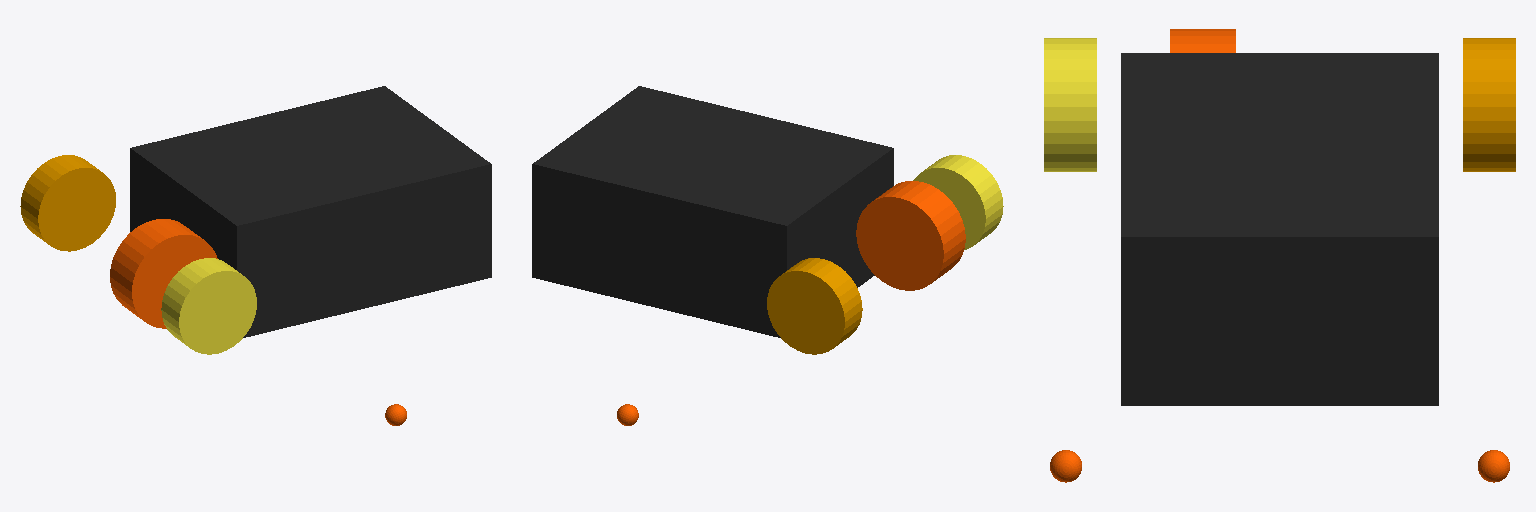
The robot description file, URDF, robot "centuar":
<?xml version="1.0"?>
<robot name="centuar">
  <material name="black">
    <color rgba="0.0 0.0 0.0 0.8"/>
  </material>
  <material name="blue">
    <color rgba="0.0 0.0 0.8 0.8"/>
  </material>
  <material name="green">
    <color rgba="0.0 0.8 0.0 0.2"/>
  </material>
  <material name="grey">
    <color rgba="0.2 0.2 0.2 0.4"/>
  </material>
  <material name="silver">
    <color rgba="0.913725490196 0.913725490196 0.847058823529 0.6"/>
  </material>
  <material name="orange">
    <color rgba="1.0 0.423529411765 0.0392156862745 0.5"/>
  </material>
  <material name="brown">
    <color rgba="0.870588235294 0.811764705882 0.764705882353 0.7"/>
  </material>
  <material name="red">
    <color rgba="0.8 0.0 0.0 1.0"/>
  </material>
  <material name="white">
    <color rgba="1.0 1.0 1.0 1.0"/>
  </material>


  <link name="floating_base">
    <visual>
      <origin rpy="0 0 0" xyz="0 0 0"/>
        <geometry>
          <box size="0.001 0.001 0.001"/>
        </geometry>
    </visual>    
  </link>

  <joint name="floating_base_to_trunk" type="fixed">
    <origin rpy="0 0 0" xyz="0 0 0"/>
    <parent link="floating_base"/>
    <child link="trunk"/>
  </joint>

  <link name="trunk">
    <visual>
      <origin rpy="0 0 0" xyz="0 0 0"/>
      <geometry>
        <box size="0.267 0.194 0.114"/>
        <!-- <mesh filename="[local-path]/Data/Code/drake/workspace/centuar_sim/a1_description/meshes/trunk.dae" scale="1 1 1"/> -->
        <mesh filename="[local-path]/Data/Code/drake/workspace/centuar_sim/a1_description/meshes/trunk.obj" scale="1 1 1"/>
      </geometry>
      <material name="grey"/>
    </visual>
    <collision>
      <origin rpy="0 0 0" xyz="0 0 0"/>
      <geometry>
        <box size="0.267 0.194 0.114"/>
      </geometry>
    </collision>
    <inertial>
      <origin rpy="0 0 0" xyz="0.0 0.0041 -0.0005"/>
      <mass value="6.0"/>
      <inertia ixx="0.0158533" ixy="-3.66e-05" ixz="-6.11e-05" iyy="0.0377999" iyz="-2.75e-05" izz="0.0456542"/>
    </inertial>
  </link>

  <joint name="RR_hip_joint" type="revolute">
    <origin rpy="0 0 0" xyz="-0.1805 -0.047 0"/>
    <parent link="trunk"/>
    <child link="RR_hip"/>
    <axis xyz="1 0 0"/>
    <dynamics damping="0" friction="0"/>
    <limit effort="33.5" lower="-0.8028514559173915" upper="0.8028514559173915" velocity="21"/>
  </joint>
  <link name="RR_hip">
    <visual>
      <!-- <origin rpy="3.141592653589793 3.141592653589793 0" xyz="0 0 0"/> -->
      <origin rpy="1.5707963267948966 0 0" xyz="0 0 0"/>
      <geometry>
        <cylinder length="0.04" radius="0.046"/>
        <!-- <mesh filename="[local-path]/Data/Code/drake/workspace/centuar_sim/a1_description/meshes/hip.dae" scale="1 1 1"/> -->
        <mesh filename="[local-path]/Data/Code/drake/workspace/centuar_sim/a1_description/meshes/hip.obj" scale="1 1 1"/>
      </geometry>
      <material name="orange"/>
    </visual>
    <collision>
      <origin rpy="1.5707963267948966 0 0" xyz="0 0 0"/>
      <geometry>
        <cylinder length="0.04" radius="0.046"/>
      </geometry>
    </collision>
    <inertial>
      <origin rpy="0 0 0" xyz="0.003311 -0.000635 3.1e-05"/>
      <mass value="0.696"/>
      <inertia ixx="0.000469246" ixy="-9.409e-06" ixz="3.42e-07" iyy="0.00080749" iyz="4.66e-07" izz="0.000552929"/>
    </inertial>
  </link>
  <joint name="RR_hip_fixed" type="fixed">
    <origin rpy="0 0 0" xyz="0 -0.081 0"/>
    <parent link="RR_hip"/>
    <child link="RR_thigh_shoulder"/>
  </joint>
  <!-- this link is only for collision -->
  <link name="RR_thigh_shoulder">
    <visual>
      <origin rpy="1.5707963267948966 0 0" xyz="0 0 0"/>
      <geometry>
        <cylinder length="0.032" radius="0.041"/>
      </geometry>
    </visual>
    <collision>
      <origin rpy="1.5707963267948966 0 0" xyz="0 0 0"/>
      <geometry>
        <cylinder length="0.032" radius="0.041"/>
      </geometry>
    </collision>
  </link>

  <joint name="RR_thigh_joint" type="revolute">
    <origin rpy="0 0 0" xyz="0 -0.0838 0"/>
    <parent link="RR_hip"/>
    <child link="RR_thigh"/>
    <axis xyz="0 1 0"/>
    <dynamics damping="0" friction="0"/>
    <limit effort="33.5" lower="-1.0471975511965976" upper="4.1887902047863905" velocity="21"/>
  </joint>
  <link name="RR_thigh">
    <visual>
      <origin rpy="0 0 0" xyz="0 0 0"/>
      <geometry>
        <mesh filename="[local-path]/Data/Code/drake/workspace/centuar_sim/a1_description/meshes/thigh_mirror.obj" scale="1 1 1"/>
      </geometry>
      <!-- <origin rpy="0 1.5707963267948966 0" xyz="0 0 -0.1"/>
      <geometry>
        <box size="0.2 0.0245 0.034"/>
      </geometry> -->
      <material name="orange"/>
    </visual>
    <collision>
      <origin rpy="0 1.5707963267948966 0" xyz="0 0 -0.1"/>
      <geometry>
        <box size="0.2 0.0245 0.034"/>
      </geometry>
    </collision>
    <inertial>
      <origin rpy="0 0 0" xyz="-0.003237 0.022327 -0.027326"/>
      <mass value="1.013"/>
      <inertia ixx="0.005529065" ixy="-4.825e-06" ixz="0.000343869" iyy="0.005139339" iyz="-2.2448e-05" izz="0.001367788"/>
    </inertial>
  </link>  

  <joint name="RR_calf_joint" type="revolute">
    <origin rpy="0 0 0" xyz="0 0 -0.2"/>
    <parent link="RR_thigh"/>
    <child link="RR_calf"/>
    <axis xyz="0 1 0"/>
    <dynamics damping="0" friction="0"/>
    <limit effort="33.5" lower="-2.6965336943312392" upper="-0.9162978572970231" velocity="21"/>
  </joint>
  <link name="RR_calf">
    <visual>
      <origin rpy="0 0 0" xyz="0 0 0"/>
      <geometry>
        <mesh filename="[local-path]/Data/Code/drake/workspace/centuar_sim/a1_description/meshes/calf.obj" scale="1 1 1"/>
      </geometry>
      <!-- <origin rpy="0 1.5707963267948966 0" xyz="0 0 -0.1"/>
      <geometry>
        <box size="0.2 0.016 0.016"/>
      </geometry> -->
      <material name="orange"/>
    </visual>
    <collision>
      <origin rpy="0 1.5707963267948966 0" xyz="0 0 -0.1"/>
      <geometry>
        <box size="0.2 0.016 0.016"/>
      </geometry>
    </collision>
    <inertial>
      <origin rpy="0 0 0" xyz="0.006435 0.0 -0.107388"/>
      <mass value="0.166"/>
      <inertia ixx="0.002997972" ixy="0.0" ixz="-0.000141163" iyy="0.003014022" iyz="0.0" izz="3.2426e-05"/>
    </inertial>   
  </link>

  <joint name="RR_foot_fixed" type="fixed">
    <origin rpy="0 0 0" xyz="0 0 -0.2"/>
    <parent link="RR_calf"/>
    <child link="RR_foot"/>
  </joint>
  <link name="RR_foot">
    <visual>
      <origin rpy="0 0 0" xyz="0 0 0"/>
      <geometry>
        <sphere radius="0.01"/>
      </geometry>
      <material name="orange"/>
    </visual>
    <collision>
      <origin rpy="0 0 0" xyz="0 0 0"/>
      <geometry>
        <sphere radius="0.02"/>
      </geometry>
    </collision>
    <inertial>
      <mass value="0.06"/>
      <inertia ixx="9.600000000000001e-06" ixy="0.0" ixz="0.0" iyy="9.600000000000001e-06" iyz="0.0" izz="9.600000000000001e-06"/>
    </inertial>
  </link>

  <joint name="RL_hip_joint" type="revolute">
    <origin rpy="0 0 0" xyz="-0.1805 0.047 0"/>
    <parent link="trunk"/>
    <child link="RL_hip"/>
    <axis xyz="1 0 0"/>
    <dynamics damping="0" friction="0"/>
    <limit effort="33.5" lower="-0.8028514559173915" upper="0.8028514559173915" velocity="21"/>
  </joint>
  <link name="RL_hip">
    <visual>
      <origin rpy="0 3.141592653589793 0" xyz="0 0 0"/>
      <geometry>
        <mesh filename="[local-path]/Data/Code/drake/workspace/centuar_sim/a1_description/meshes/hip.obj" scale="1 1 1"/>
      </geometry>
      <!-- <origin rpy="1.5707963267948966 0 0" xyz="0 0 0"/>
      <geometry>
        <cylinder length="0.04" radius="0.046"/>
      </geometry> -->
      <material name="orange"/>
    </visual>
    <collision>
      <origin rpy="1.5707963267948966 0 0" xyz="0 0 0"/>
      <geometry>
        <cylinder length="0.04" radius="0.046"/>
      </geometry>
    </collision>
    <inertial>
      <origin rpy="0 0 0" xyz="0.003311 0.000635 3.1e-05"/>
      <mass value="0.696"/>
      <inertia ixx="0.000469246" ixy="9.409e-06" ixz="3.42e-07" iyy="0.00080749" iyz="-4.66e-07" izz="0.000552929"/>
    </inertial>
  </link>

  <joint name="RL_hip_fixed" type="fixed">
    <origin rpy="0 0 0" xyz="0 0.081 0"/>
    <parent link="RL_hip"/>
    <child link="RL_thigh_shoulder"/>
  </joint>
  <!-- this link is only for collision -->
  <link name="RL_thigh_shoulder">
    <visual>
    <origin rpy="1.5707963267948966 0 0" xyz="0 0 0"/>
      <geometry>
        <cylinder length="0.032" radius="0.041"/>
      </geometry>
    </visual>
    <collision>
      <origin rpy="1.5707963267948966 0 0" xyz="0 0 0"/>
      <geometry>
        <cylinder length="0.032" radius="0.041"/>
      </geometry>
    </collision>
  </link>

  <joint name="RL_thigh_joint" type="revolute">
    <origin rpy="0 0 0" xyz="0 0.0838 0"/>
    <parent link="RL_hip"/>
    <child link="RL_thigh"/>
    <axis xyz="0 1 0"/>
    <dynamics damping="0" friction="0"/>
    <limit effort="33.5" lower="-1.0471975511965976" upper="4.1887902047863905" velocity="21"/>
  </joint>
  <link name="RL_thigh">
    <visual>
      <origin rpy="0 0 0" xyz="0 0 0"/>
      <geometry>
        <mesh filename="[local-path]/Data/Code/drake/workspace/centuar_sim/a1_description/meshes/thigh.obj" scale="1 1 1"/>
      </geometry>
      <!-- <origin rpy="0 1.5707963267948966 0" xyz="0 0 -0.1"/>
      <geometry>
        <box size="0.2 0.0245 0.034"/>
      </geometry> -->
      <material name="orange"/>
    </visual>
    <collision>
      <origin rpy="0 1.5707963267948966 0" xyz="0 0 -0.1"/>
      <geometry>
        <box size="0.2 0.0245 0.034"/>
      </geometry>
    </collision>
    <inertial>
      <origin rpy="0 0 0" xyz="-0.003237 -0.022327 -0.027326"/>
      <mass value="1.013"/>
      <inertia ixx="0.005529065" ixy="4.825e-06" ixz="0.000343869" iyy="0.005139339" iyz="2.2448e-05" izz="0.001367788"/>
    </inertial>
  </link>

<joint name="RL_calf_joint" type="revolute">
    <origin rpy="0 0 0" xyz="0 0 -0.2"/>
    <parent link="RL_thigh"/>
    <child link="RL_calf"/>
    <axis xyz="0 1 0"/>
    <dynamics damping="0" friction="0"/>
    <limit effort="33.5" lower="-2.6965336943312392" upper="-0.9162978572970231" velocity="21"/>
  </joint>
  <link name="RL_calf">
    <visual>
      <origin rpy="0 0 0" xyz="0 0 0"/>
      <geometry>
        <mesh filename="[local-path]/Data/Code/drake/workspace/centuar_sim/a1_description/meshes/calf.obj" scale="1 1 1"/>
      </geometry>
      <!-- <origin rpy="0 1.5707963267948966 0" xyz="0 0 -0.1"/>
      <geometry>
        <box size="0.2 0.016 0.016"/>
      </geometry> -->
      <material name="orange"/>
    </visual>
    <collision>
      <origin rpy="0 1.5707963267948966 0" xyz="0 0 -0.1"/>
      <geometry>
        <box size="0.2 0.016 0.016"/>
      </geometry>
    </collision>
    <inertial>
      <origin rpy="0 0 0" xyz="0.006435 0.0 -0.107388"/>
      <mass value="0.166"/>
      <inertia ixx="0.002997972" ixy="0.0" ixz="-0.000141163" iyy="0.003014022" iyz="0.0" izz="3.2426e-05"/>
    </inertial>
  </link>
  <joint name="RL_foot_fixed" type="fixed">
    <origin rpy="0 0 0" xyz="0 0 -0.2"/>
    <parent link="RL_calf"/>
    <child link="RL_foot"/>
  </joint>
  <link name="RL_foot">
    <visual>
      <origin rpy="0 0 0" xyz="0 0 0"/>
      <geometry>
        <sphere radius="0.01"/>
      </geometry>
      <material name="orange"/>
    </visual>
    <collision>
      <origin rpy="0 0 0" xyz="0 0 0"/>
      <geometry>
        <sphere radius="0.02"/>
      </geometry>
    </collision>
    <inertial>
      <mass value="0.06"/>
      <inertia ixx="9.600000000000001e-06" ixy="0.0" ixz="0.0" iyy="9.600000000000001e-06" iyz="0.0" izz="9.600000000000001e-06"/>
    </inertial>
  </link>

  <transmission name="abad_left_trans" type="SimpleTransmission">
    <actuator name="tau0"/>
    <joint name="RL_calf_joint"/>
    <mechanicalReduction>1</mechanicalReduction>
  </transmission>
</robot>

--- What the picture shows (computed from the rendered views, not written in the file) ---
The picture shows the robot from 3 angles, left to right: view 1: azimuth 30°, elevation 25°; view 2: azimuth 150°, elevation 25°; view 3: azimuth 270°, elevation 25°; orthographic projection.
Robot: centuar — 12 links, 11 joints (6 revolute, 5 fixed); root link floating_base; default pose: all joints at 0 but 2 set to mid-range because 0 is outside their limits (RR_calf_joint = -1.81, RL_calf_joint = -1.81).
Visible links, largest first — view 1: trunk, RR_thigh_shoulder, RL_thigh_shoulder, RR_hip; view 2: trunk, RR_hip, RL_thigh_shoulder, RR_thigh_shoulder; view 3: trunk, RR_thigh_shoulder, RL_thigh_shoulder, RR_hip, RR_foot, RL_foot.
Boxes of the visible links, left/top/right/bottom form: trunk: left=130, top=86, right=491, bottom=337; RR_thigh_shoulder: left=161, top=258, right=256, bottom=354; RL_thigh_shoulder: left=20, top=155, right=115, bottom=251; RR_hip: left=110, top=219, right=217, bottom=328; trunk: left=532, top=86, right=893, bottom=337; RR_hip: left=856, top=181, right=965, bottom=290; RL_thigh_shoulder: left=767, top=258, right=862, bottom=354; RR_thigh_shoulder: left=913, top=155, right=1003, bottom=249; trunk: left=1121, top=53, right=1438, bottom=405; RR_thigh_shoulder: left=1044, top=38, right=1096, bottom=171; RL_thigh_shoulder: left=1463, top=38, right=1515, bottom=171; RR_hip: left=1170, top=29, right=1235, bottom=52; RR_foot: left=1050, top=450, right=1081, bottom=482; RL_foot: left=1478, top=450, right=1509, bottom=482.
Size in the robot's own frame: 0.36 by 0.288 by 0.2203 metres.
Geometry: only primitive shapes (box / cylinder / sphere) drawn; not drawn: 5 mesh visuals (reference in a form the renderer does not follow).
